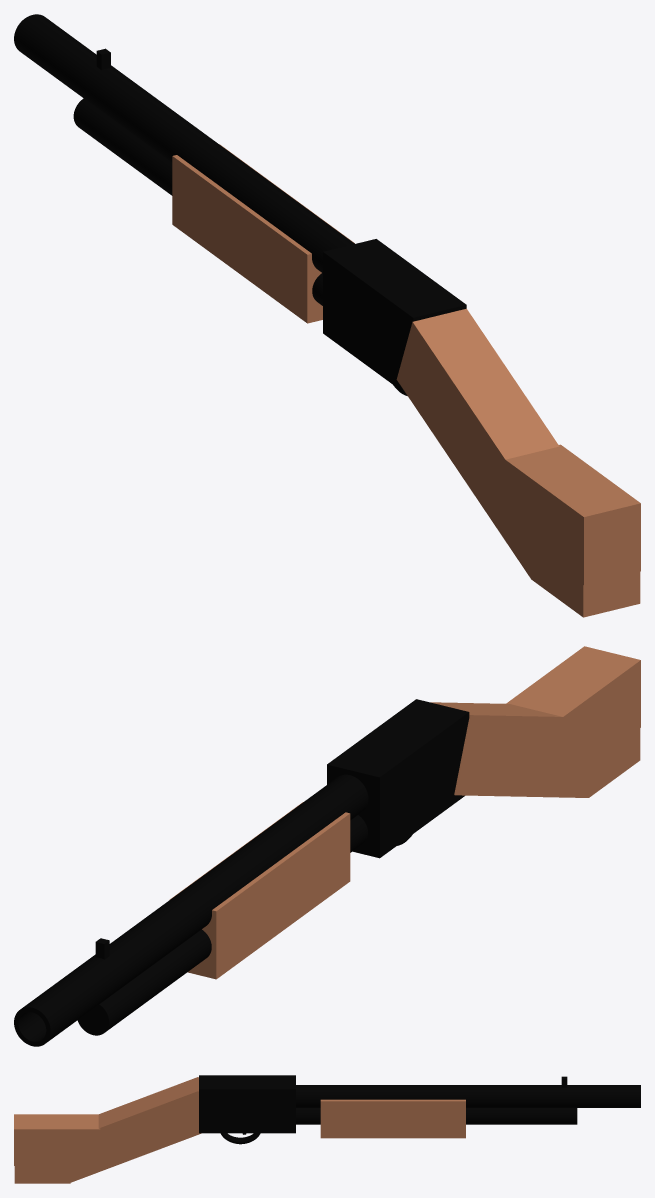
The model's file is shotgun 1.glb.
3 views of the same model, one above another, from view 1: azimuth 30°, elevation 25°; view 2: azimuth 150°, elevation 25°; view 3: azimuth 270°, elevation 25° (orthographic). The views are drawn at different scales.
Parts seen in each view (by area): view 1: mesh_id56, mesh_id29, mesh_id58, mesh_id33, mesh_id41, mesh_id64, mesh_id31; view 2: mesh_id29, mesh_id33, mesh_id56, mesh_id41, mesh_id58, mesh_id31, mesh_id64; view 3: mesh_id29, mesh_id56, mesh_id41, mesh_id33, mesh_id58, mesh_id31, mesh_id64.
Part boxes in pixels (x1,y1,x2,y2): mesh_id56: (396,308,559,578); mesh_id29: (14,14,354,272); mesh_id58: (503,444,640,585); mesh_id33: (323,239,466,394); mesh_id41: (172,144,354,323); mesh_id64: (531,552,640,617); mesh_id31: (73,98,322,305); mesh_id29: (14,774,368,1046); mesh_id33: (327,699,469,858); mesh_id56: (430,702,604,797); mesh_id41: (169,802,350,979); mesh_id58: (506,646,640,759); mesh_id31: (77,815,367,1035); mesh_id64: (589,728,640,797); mesh_id29: (296,1085,640,1107); mesh_id56: (70,1077,201,1182); mesh_id41: (320,1099,465,1138); mesh_id33: (199,1075,295,1133); mesh_id58: (14,1114,100,1165); mesh_id31: (296,1108,577,1124); mesh_id64: (14,1157,70,1183).
Size of the model in its own units: 0.0637 by 0.1963 by 1.13.
Materials: 10 (10 with a texture image).
